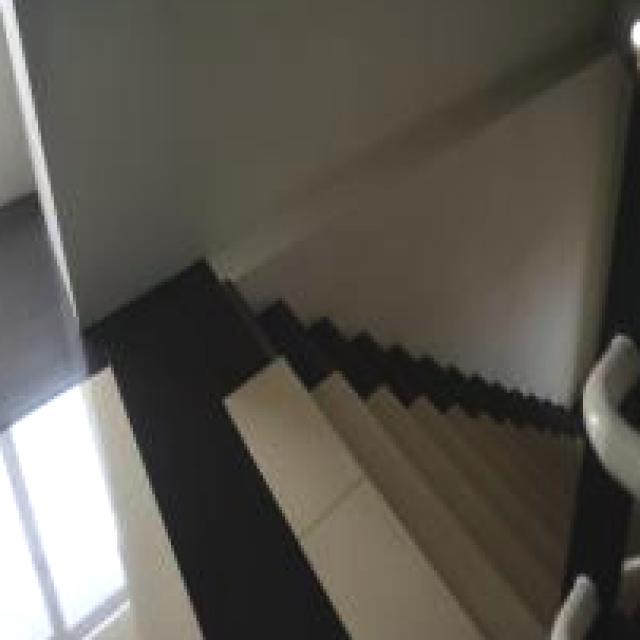downstair: (220, 305, 562, 640)
